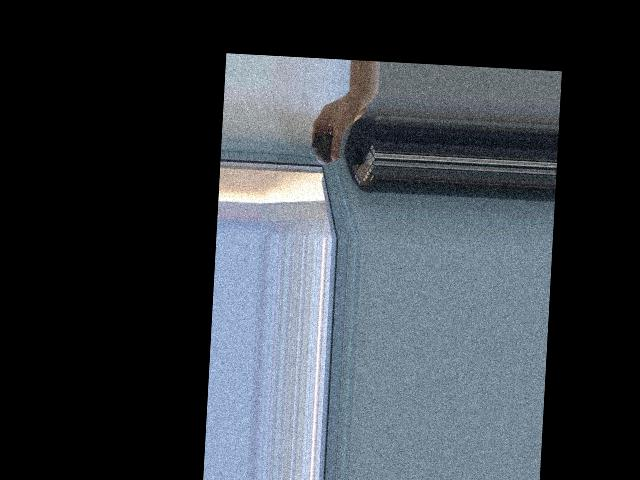beet: (310, 129, 343, 165)
